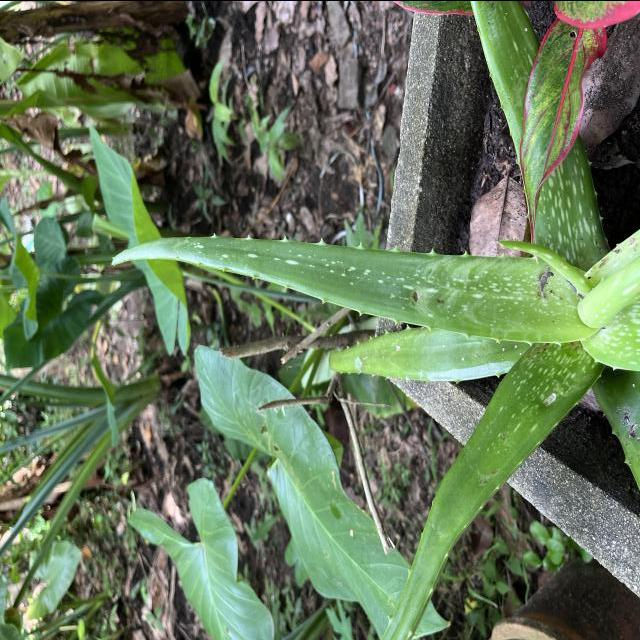Aloe vera: (108, 227, 593, 350)
